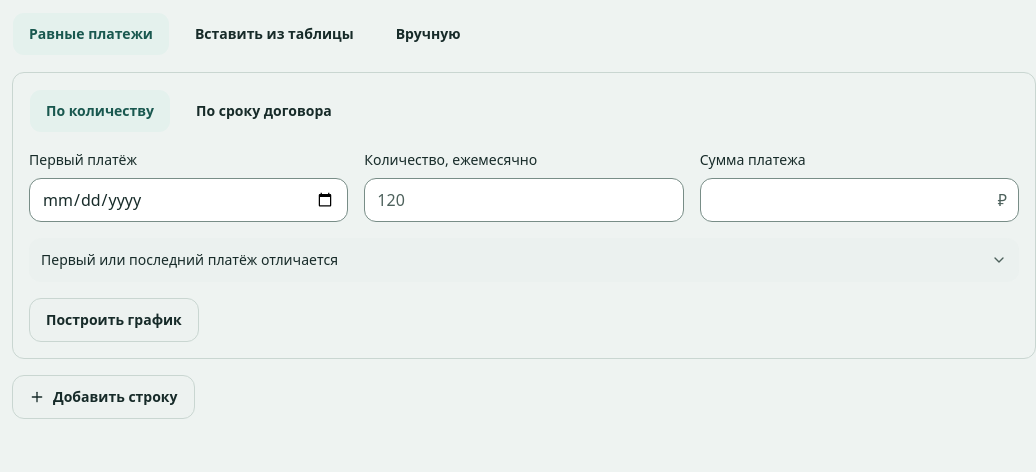
SPEC-0045 schedule by contract term › asks for both months before building
Click the radio button labelled "По сроку договора" at (264, 111), box x1=179 y1=89 x2=349 y2=133
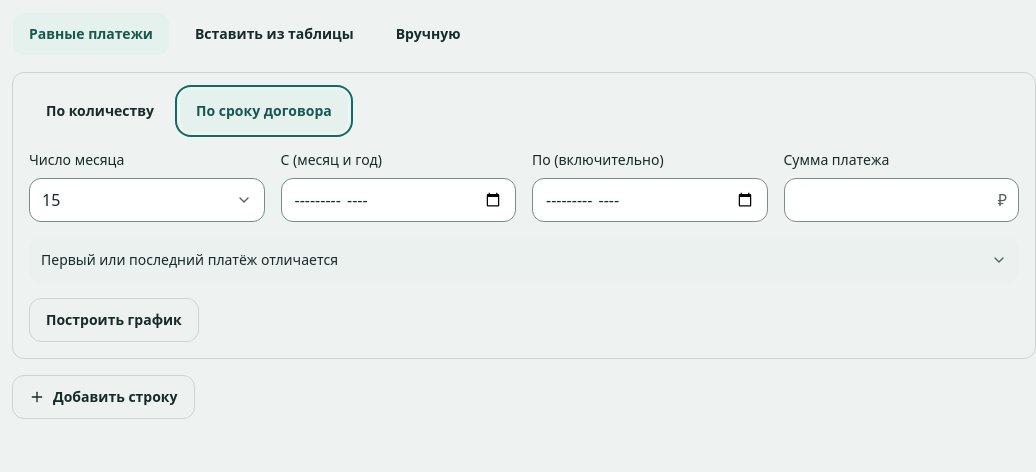
Type "100" into the field labelled "Сумма платежа" at (901, 200), box x1=784 y1=178 x2=1019 y2=222
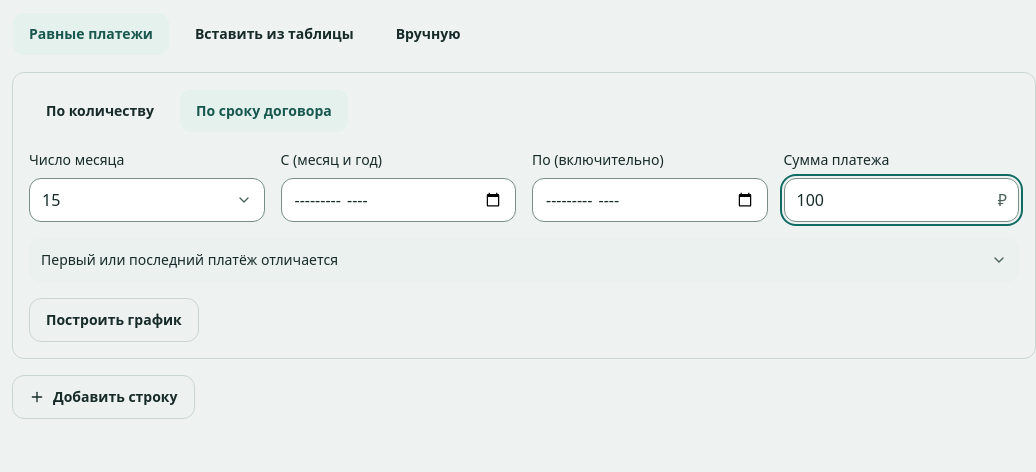
Click the button "Построить график" at (114, 320), box x1=29 y1=298 x2=199 y2=342
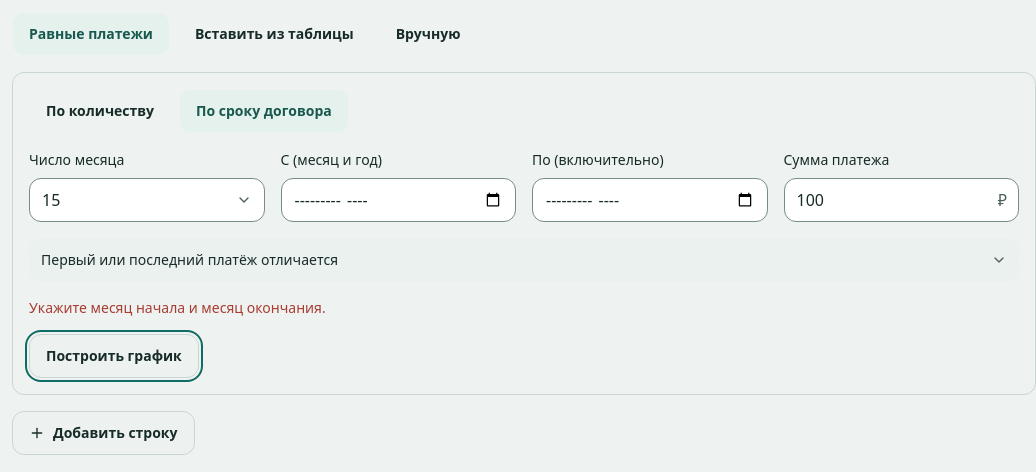
Now the message reads "Укажите месяц начала и месяц окончания.", box x1=29 y1=298 x2=326 y2=317
